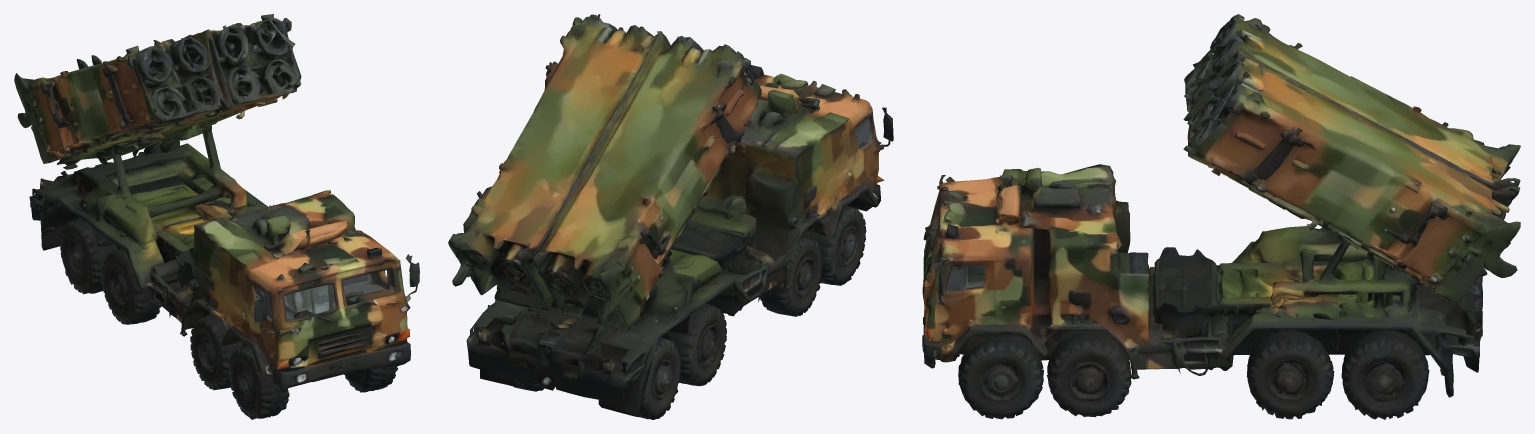
The model's file is mlrs.glb.
3 views of the same model, side by side, from view 1: azimuth 30°, elevation 25°; view 2: azimuth 150°, elevation 25°; view 3: azimuth 270°, elevation 25° (orthographic). The views are drawn at different scales.
Visible parts, largest first — view 1: tripo_node_ca5c6546-693a-4c98-a041-6810a6d96296; view 2: tripo_node_ca5c6546-693a-4c98-a041-6810a6d96296; view 3: tripo_node_ca5c6546-693a-4c98-a041-6810a6d96296.
Boxes of the visible parts, x1,y1,x2,y2 form: tripo_node_ca5c6546-693a-4c98-a041-6810a6d96296: (14,14,419,419); tripo_node_ca5c6546-693a-4c98-a041-6810a6d96296: (448,14,893,419); tripo_node_ca5c6546-693a-4c98-a041-6810a6d96296: (922,14,1520,419).
Bounding box in the file's own units: 0.3633 × 0.618 × 1.
Materials: 1 (1 with a texture image).
